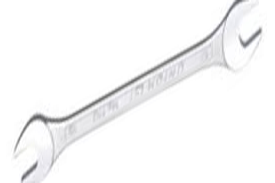Wrench: (10, 4, 263, 183)
